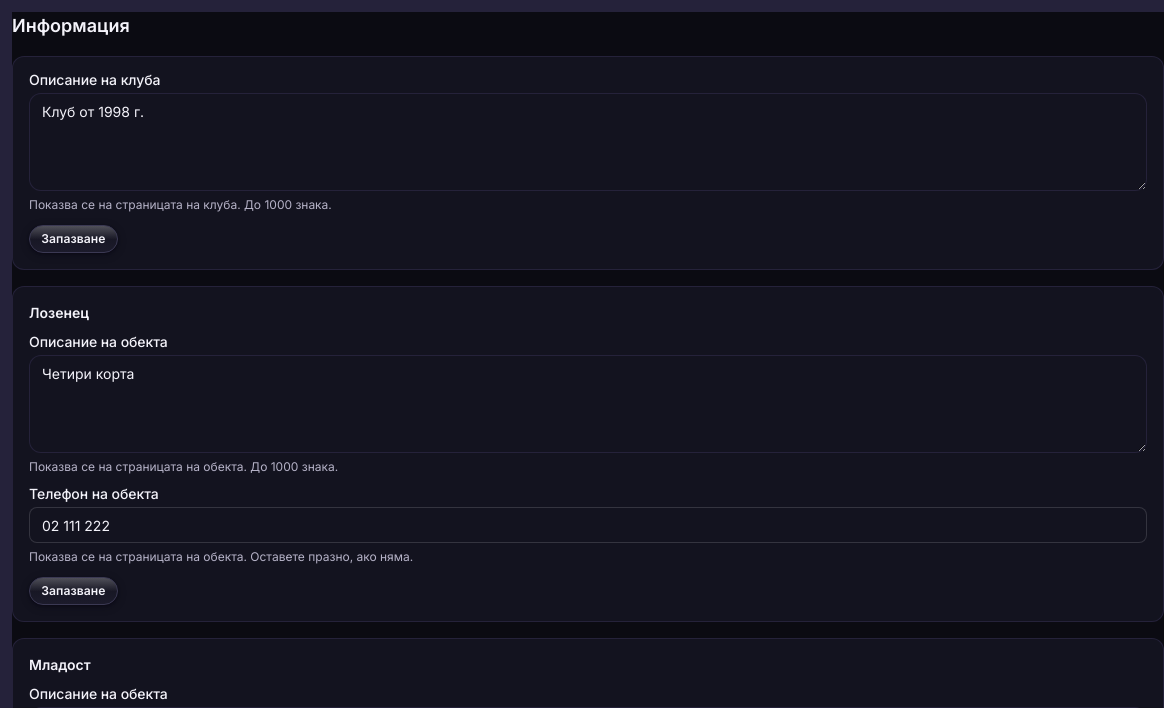
it: the club’s «Информация» › a refusal (PHONE_INVALID) is said in words, beside the form it belongs to
The image size is (1164, 708).
Click the button "Запазване" below "Лозенец": coordinates (73, 591) [29,577,118,605]
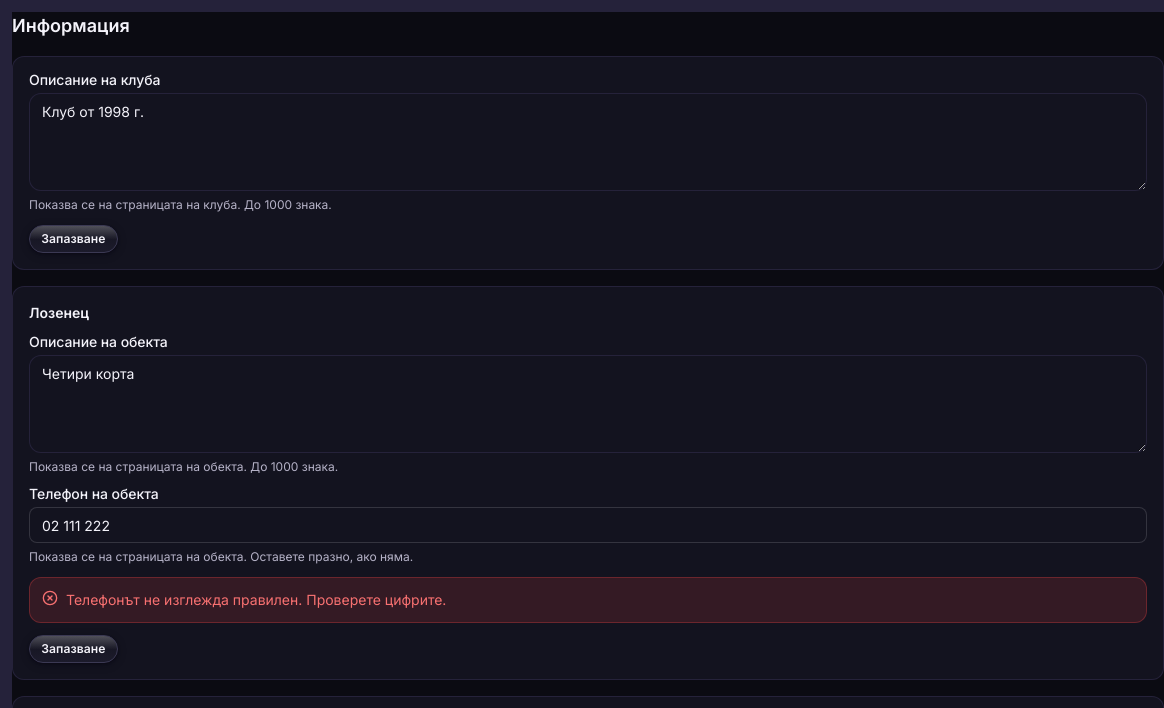
expect the text "Телефонът не изглежда правилен. Проверете цифрите." is shown: met, box [66,591,446,608]
